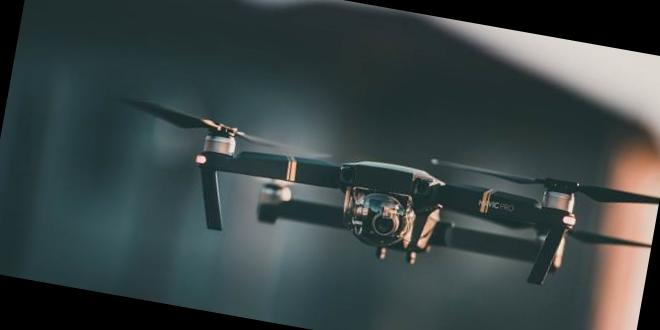drone: (125, 86, 642, 306)
